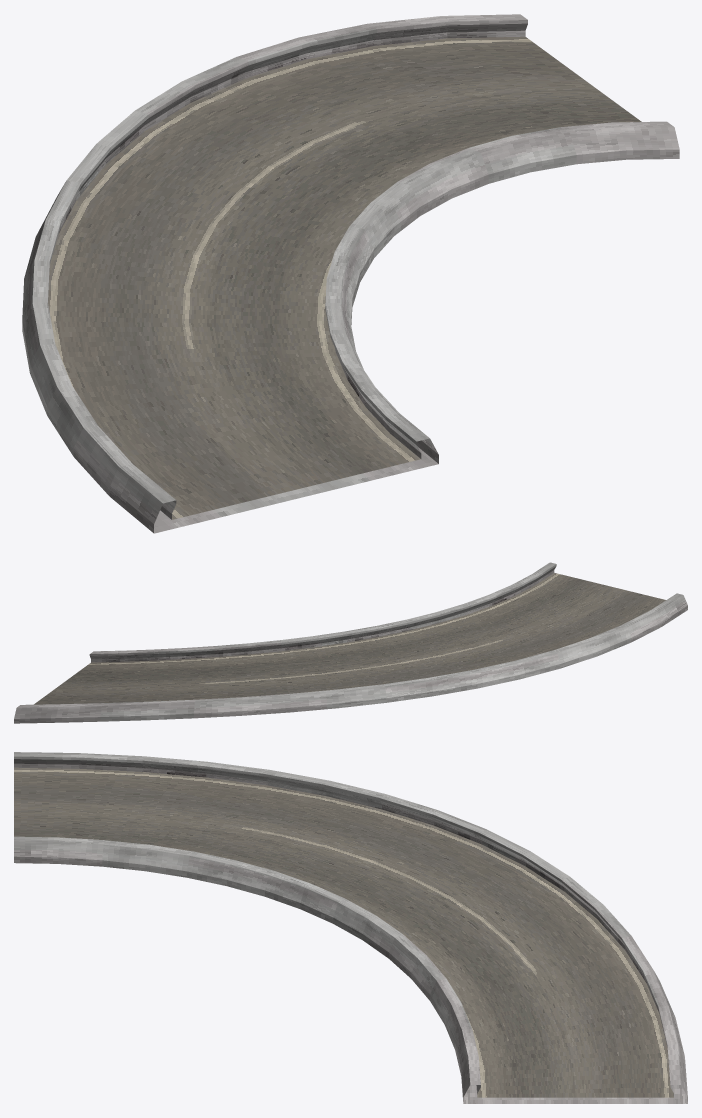
File: turn-right3x3.glb
3 renders of one model, top to bottom at view 1: azimuth 30°, elevation 25°; view 2: azimuth 150°, elevation 25°; view 3: azimuth 270°, elevation 25°, orthographic. The views are drawn at different scales.
Visible parts, largest first — view 1: road-Turn-Flat-BiSlopeDown-Down1-Right-Size3; view 2: road-Turn-Flat-BiSlopeDown-Down1-Right-Size3; view 3: road-Turn-Flat-BiSlopeDown-Down1-Right-Size3.
Part boxes in pixels (x1,y1,x2,y2): road-Turn-Flat-BiSlopeDown-Down1-Right-Size3: [22, 14, 679, 533]; road-Turn-Flat-BiSlopeDown-Down1-Right-Size3: [14, 562, 687, 723]; road-Turn-Flat-BiSlopeDown-Down1-Right-Size3: [14, 752, 687, 1103].
Size of the model in its own units: 3 by 0.3744 by 3.
Materials: 2 (2 with a texture image).
